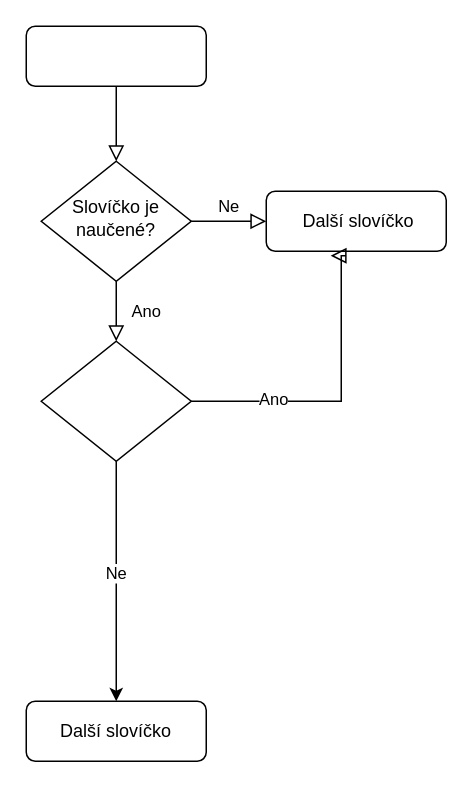
This 473x788 diagram has some shape labels left out. The centre of each missing label's shape, as x and y in pixels:
"Má slovíčko level vyšší než 9?" belongs at point (115, 400).
"Slovíčko" belongs at point (115, 55).
